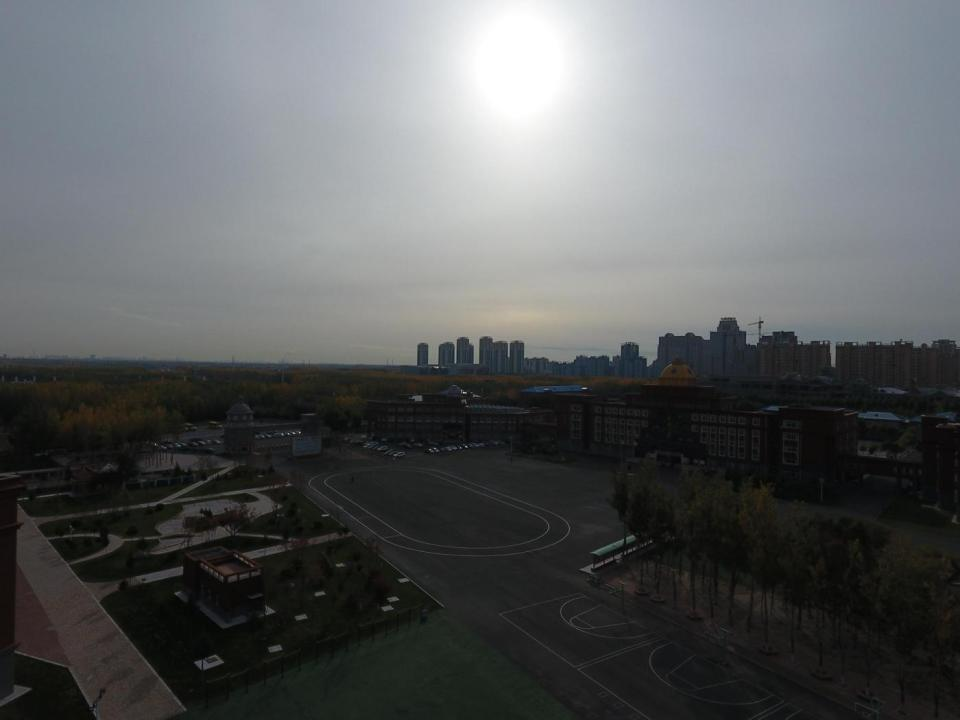bus: (171, 422, 188, 432), (185, 422, 196, 432), (208, 421, 221, 429)
car: (188, 437, 204, 442), (393, 452, 405, 458), (446, 445, 458, 451), (468, 442, 480, 448), (402, 443, 413, 449), (424, 448, 435, 454), (388, 448, 399, 454), (429, 447, 440, 453), (164, 444, 174, 450), (158, 445, 168, 451), (428, 440, 438, 446), (440, 447, 452, 452), (488, 440, 498, 446), (413, 442, 424, 447), (388, 451, 399, 456), (377, 446, 388, 451), (453, 445, 464, 450), (287, 430, 296, 436), (459, 444, 468, 450), (196, 441, 206, 446), (171, 443, 181, 448), (384, 450, 394, 455), (475, 442, 485, 447), (372, 446, 384, 450), (363, 444, 375, 448), (270, 433, 279, 438), (162, 440, 173, 444), (367, 442, 378, 446), (294, 430, 301, 436), (204, 440, 212, 445), (211, 440, 221, 444), (264, 434, 272, 439), (276, 433, 284, 438), (398, 442, 408, 446), (189, 442, 198, 446), (178, 443, 187, 447), (368, 445, 377, 449), (253, 435, 260, 440), (258, 435, 265, 440), (207, 448, 215, 452), (382, 437, 387, 442), (410, 438, 416, 442)
